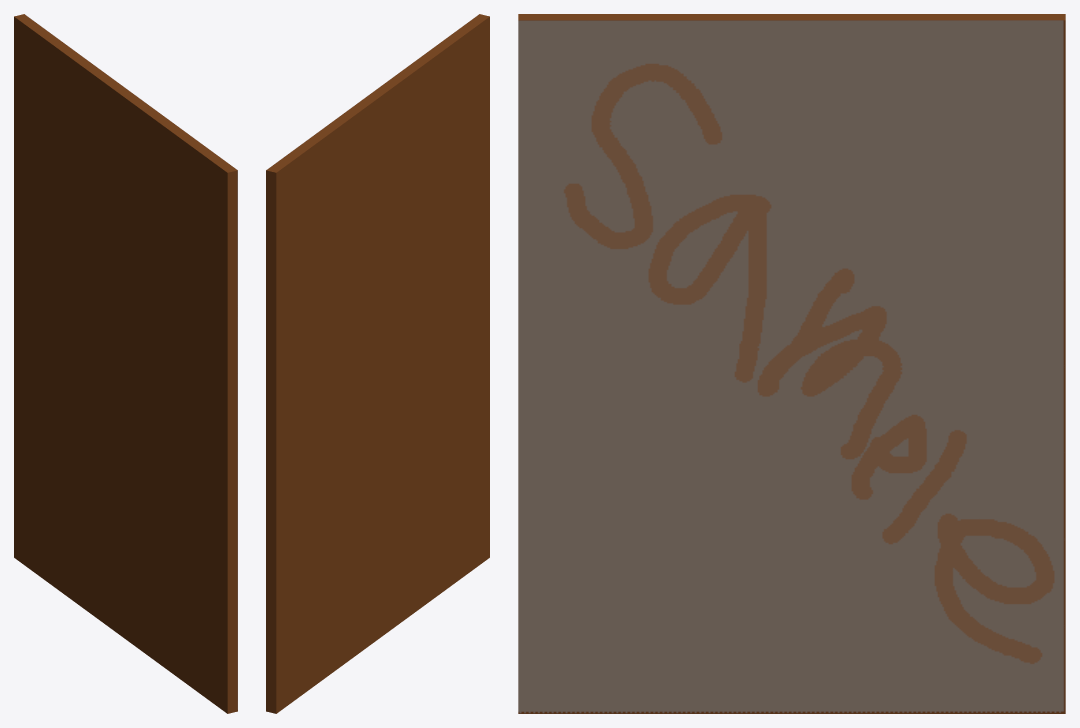
The model's file is Poster.fbx.
3 renders of one model, left to right at view 1: azimuth 30°, elevation 25°; view 2: azimuth 150°, elevation 25°; view 3: azimuth 270°, elevation 25°, orthographic. The views are drawn at different scales.
Parts seen in each view (by area): view 1: Poster; view 2: Poster; view 3: Poster.
Boxes of the visible parts, x1,y1,x2,y2 form: Poster: (14, 14, 237, 713); Poster: (266, 14, 489, 713); Poster: (518, 14, 1065, 713).
Size of the model in its own units: 9.61 by 481 by 344.
